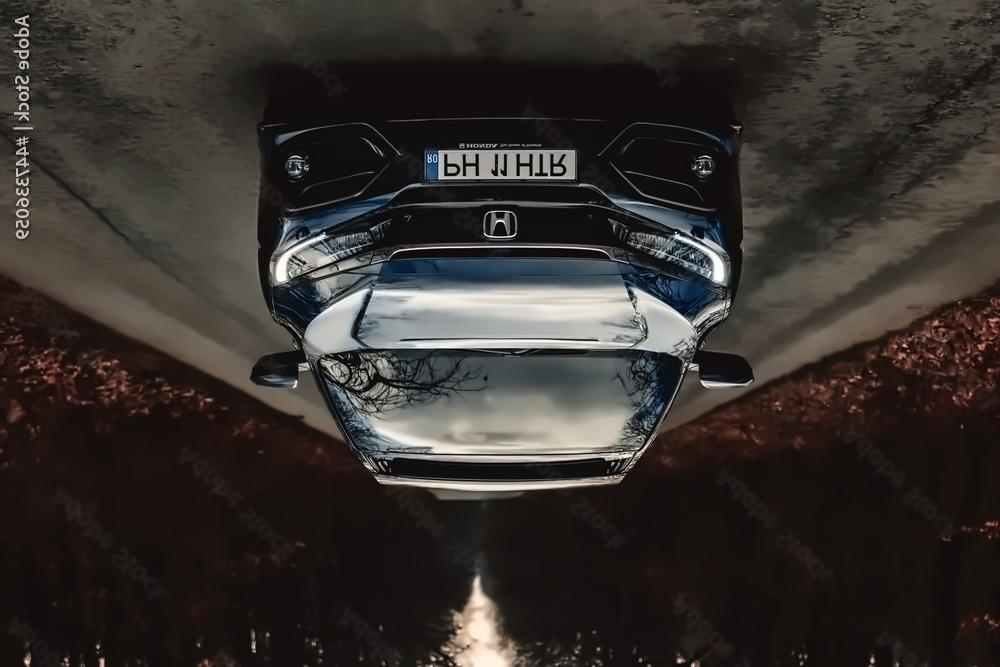Car hood: (288, 251, 692, 363)
Front bumper: (256, 92, 751, 220)
Headlight - -L-: (266, 203, 397, 299)
Headlight - -R-: (607, 207, 739, 300)
